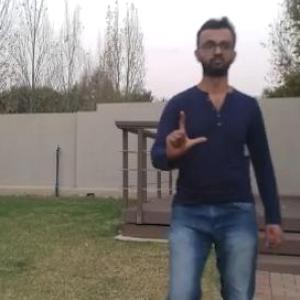land_hand: (160, 106, 214, 166)
